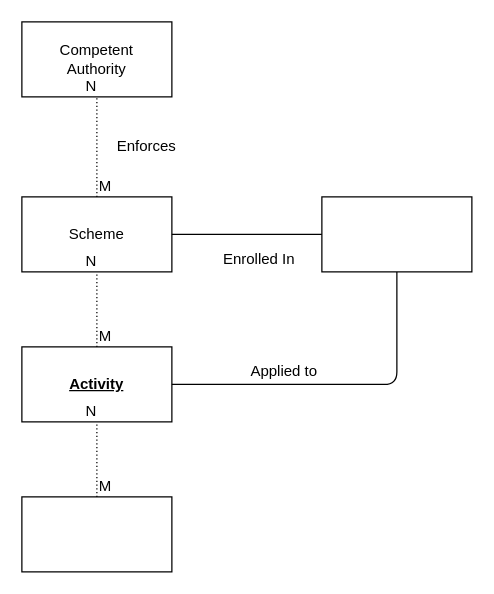
The diagram is 494 pixels wide and 594 high, and some of its shapes have lost their labels. Each missing label, with the centre of its shape:
"Activity Type" belongs at point (96, 534).
"Establishment" belongs at point (396, 234).
